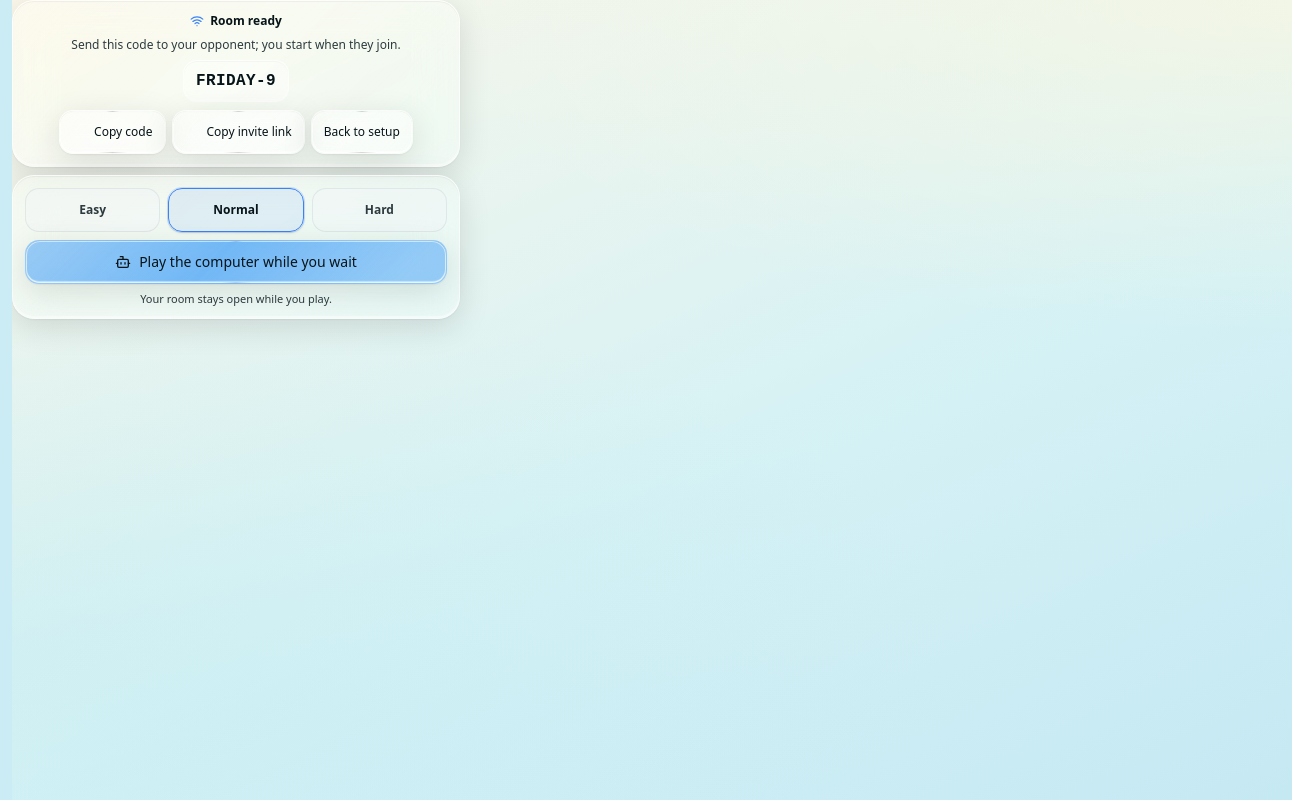
Test: OnlineGameSurface play while you wait (created room) › starts a game without closing the room
This screenshot has width=1292, height=800.
Click the button "Play the computer while you wait": (236, 262) [25,240,447,284]
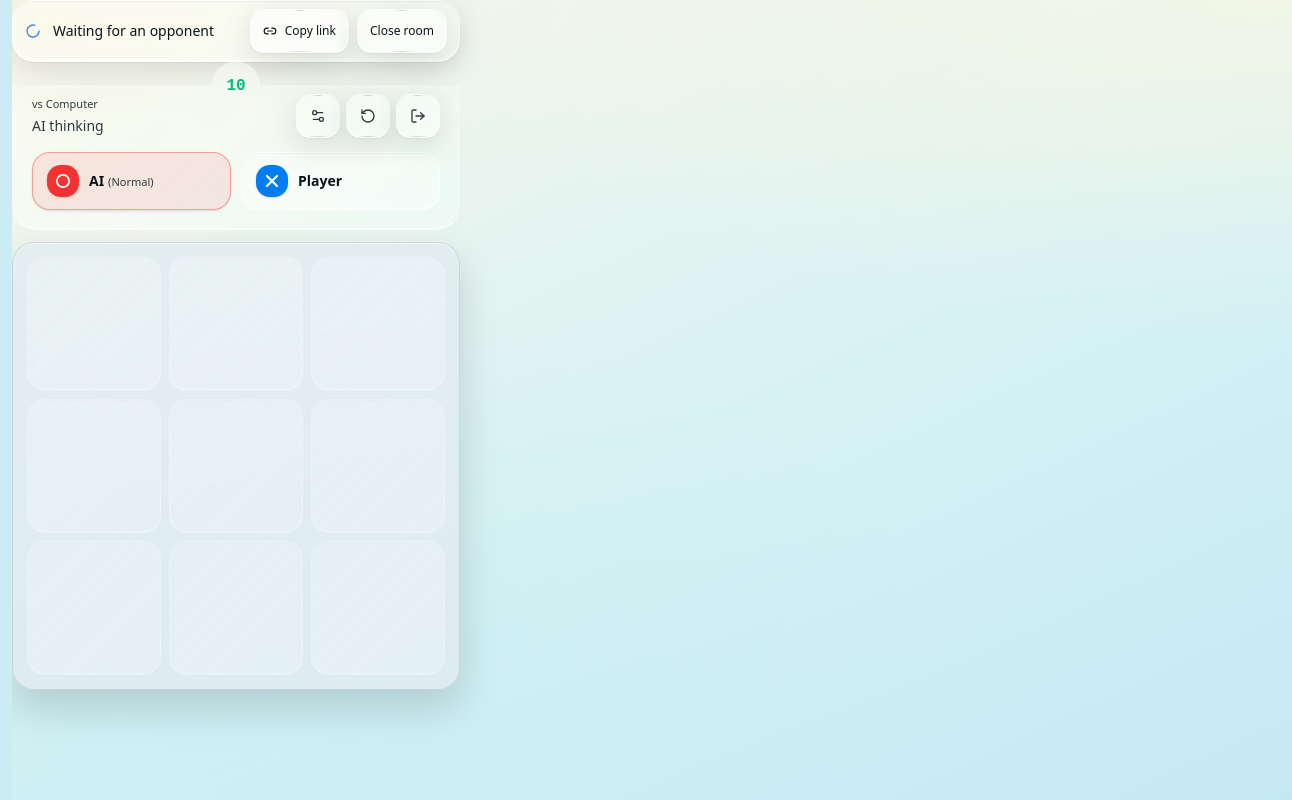
Now the text "vs Computer" is shown, box [32,96,98,112]
Now the text "Waiting for an opponent" is shown, box [53,22,238,40]
Now the button "Play the computer while you wait" is gone
